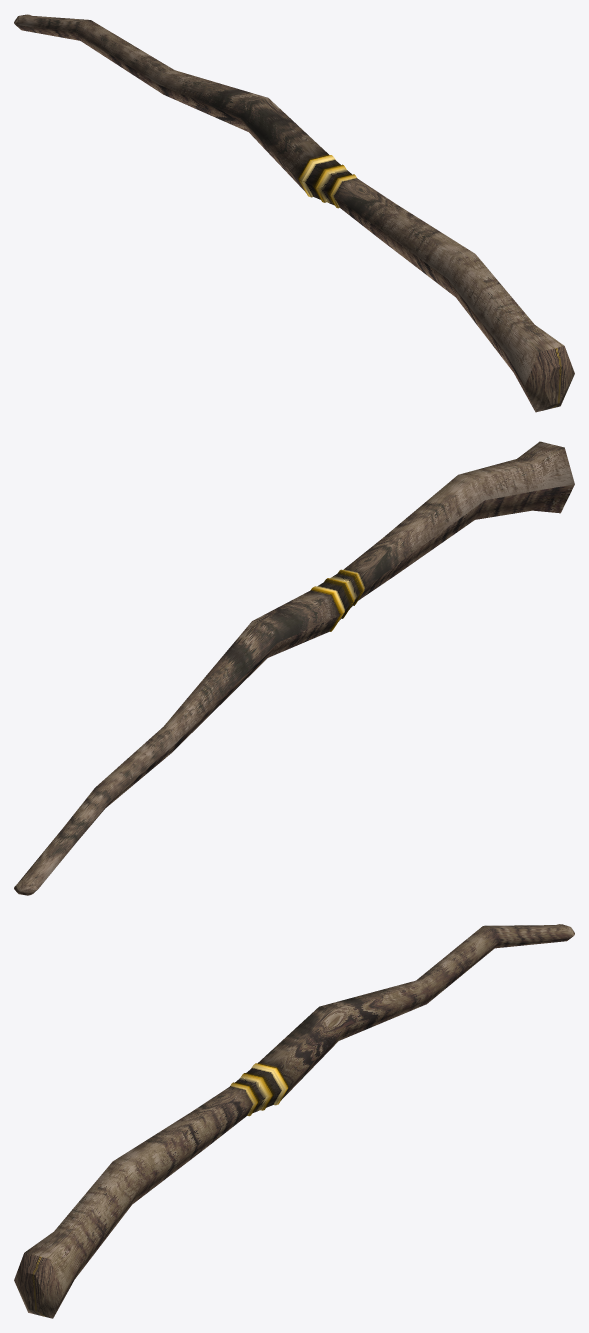
Rendered from Wand_04.fbx.
3 renders of one model, top to bottom at view 1: azimuth 30°, elevation 25°; view 2: azimuth 150°, elevation 25°; view 3: azimuth 330°, elevation 25°, orthographic.
Parts seen in each view (by area): view 1: Cápsula_1; view 2: Cápsula_1; view 3: Cápsula_1.
Boxes of the visible parts, x1,y1,x2,y2 form: Cápsula_1: (14,14,574,412); Cápsula_1: (14,441,574,895); Cápsula_1: (14,924,574,1318).
Bounding box in the file's own units: 22.88 × 44.24 × 427.
1 material, 1 textured.
